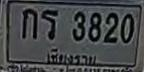0: (120, 13, 133, 42)
2: (104, 12, 118, 42)
3: (72, 10, 84, 40)
8: (88, 12, 101, 41)
A01: (22, 8, 36, 38)
A35: (42, 9, 58, 39)
CRI: (44, 47, 100, 67)
